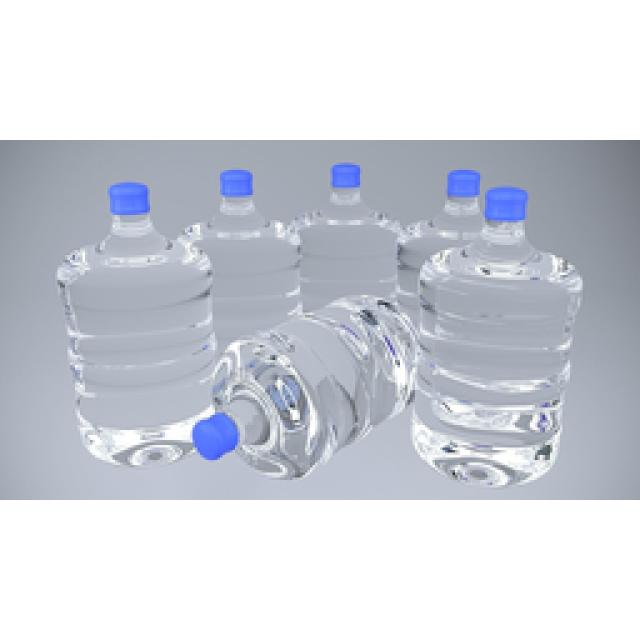plastic_water_bottles: (427, 187, 580, 480), (57, 180, 193, 468), (200, 330, 367, 483), (300, 155, 398, 298), (207, 167, 288, 298)
